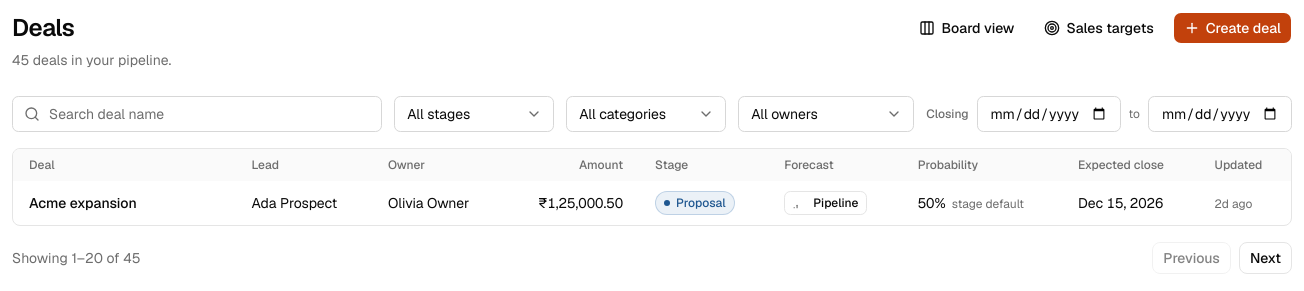
it: Deals page › paginates with Previous and Next
Check: the text "Showing 1–20 of 45" is shown, box 12,248 -> 140,268
Check: the button with aria-label "Previous deals page" is disabled, box 1152,242 -> 1231,274
Click the button with aria-label "Next deals page".
click(1265, 258)  # box 1239,242 -> 1292,274
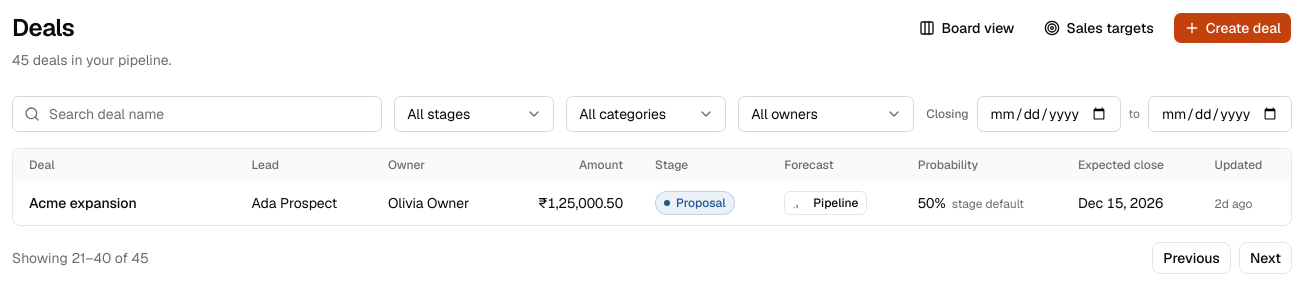
Check: the text "Showing 21–40 of 45" is shown, box 12,248 -> 149,268
